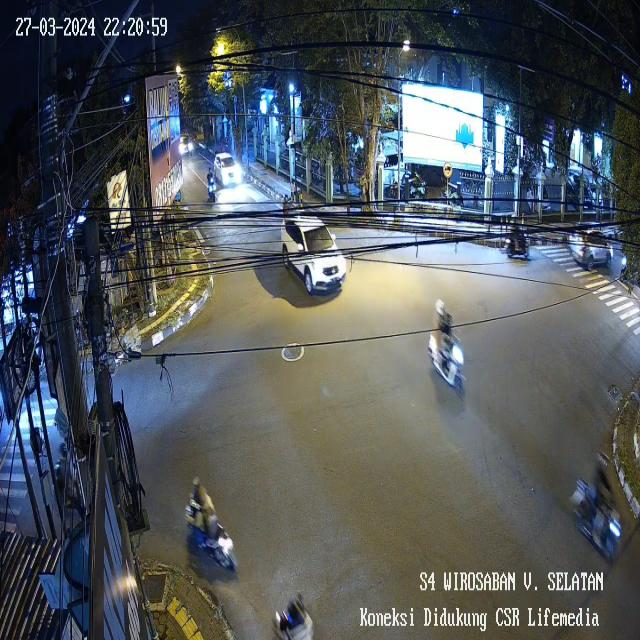car: (280, 207, 350, 303), (567, 217, 614, 277), (211, 146, 246, 191), (172, 132, 198, 158)
motorcycle: (180, 465, 242, 583), (568, 446, 624, 564), (425, 294, 468, 399), (268, 585, 324, 640), (503, 212, 535, 266), (204, 170, 219, 206)
